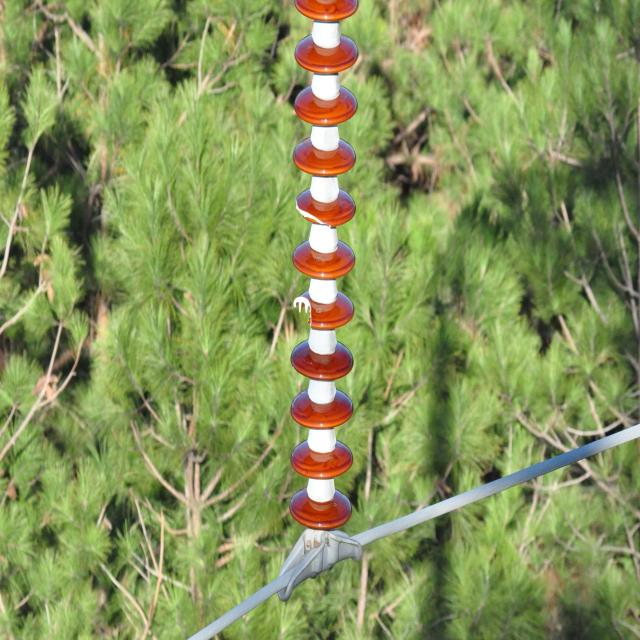broken: (293, 193, 335, 233), (294, 294, 316, 332)
insulator: (290, 0, 360, 529)
